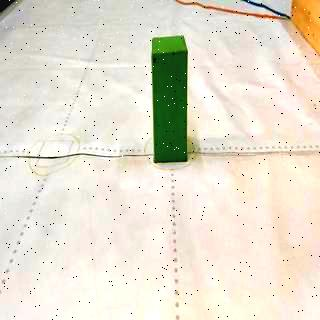greenbox: (150, 36, 189, 165)
